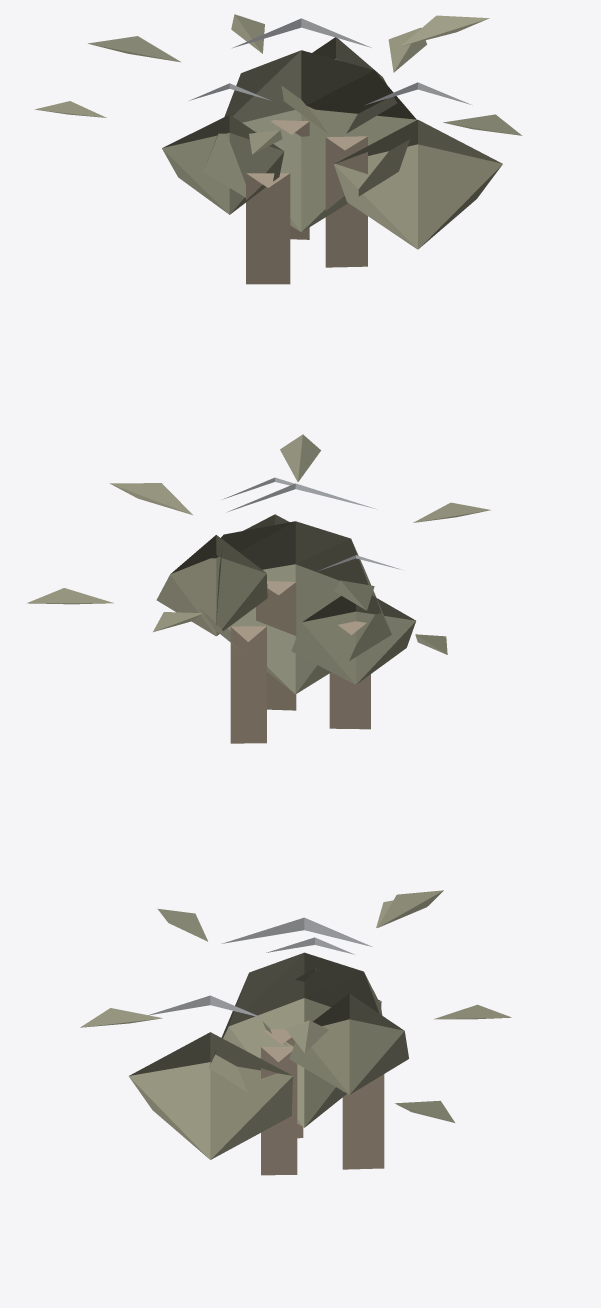
The model's file is guan.yueju@subadult__winter.glb.
The picture shows the model from 3 angles, top to bottom: view 1: azimuth 30°, elevation 25°; view 2: azimuth 150°, elevation 25°; view 3: azimuth 270°, elevation 25°; orthographic projection.
Parts seen in each view (by area): view 1: guan.yueju@subadult__winter; view 2: guan.yueju@subadult__winter; view 3: guan.yueju@subadult__winter.
Boxes of the visible parts, box(x1,y1,x2,y2) form: guan.yueju@subadult__winter: box(34, 14, 522, 284); guan.yueju@subadult__winter: box(27, 434, 490, 743); guan.yueju@subadult__winter: box(80, 890, 511, 1175).
Size of the model in its own units: 1.34 by 0.597 by 1.25.
